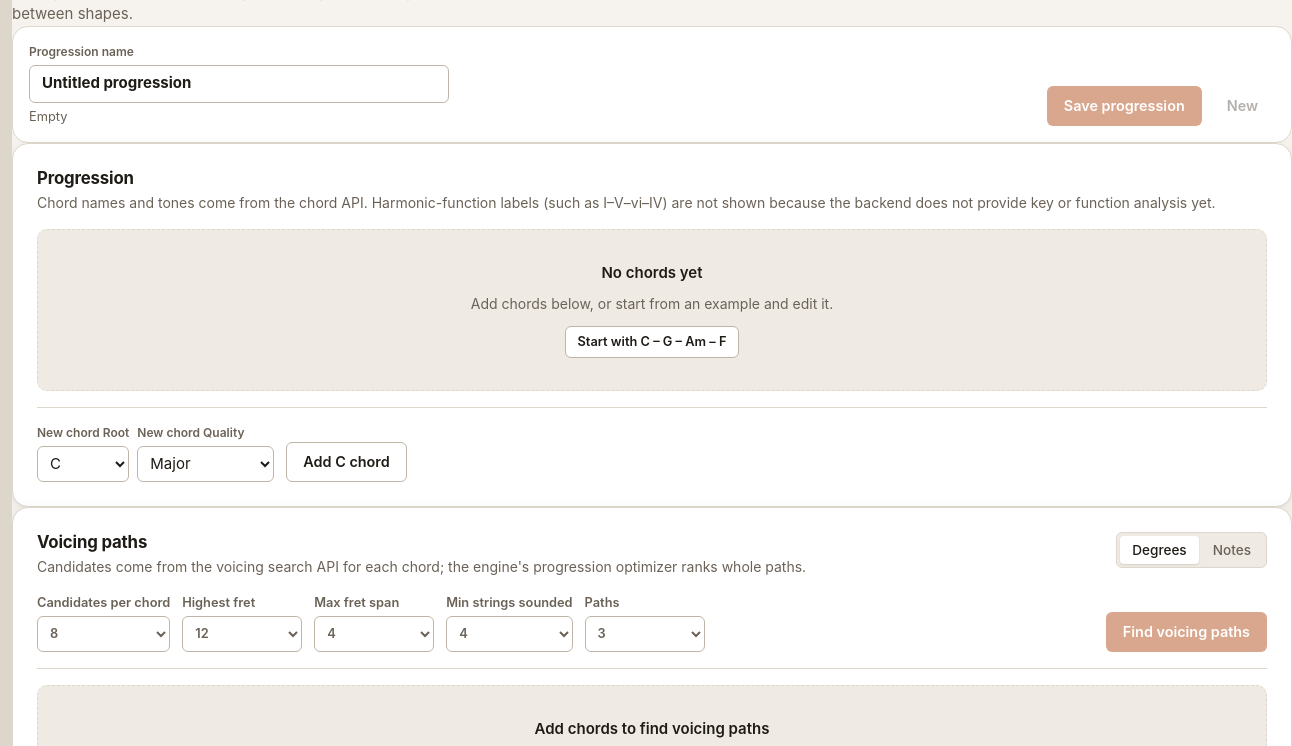
Test: ProgressionBuilder › reports service failures with a retry
Click the button "Start with C – G – Am – F". click: click(652, 342)
box: [564,326,739,358]
(page scrolled)
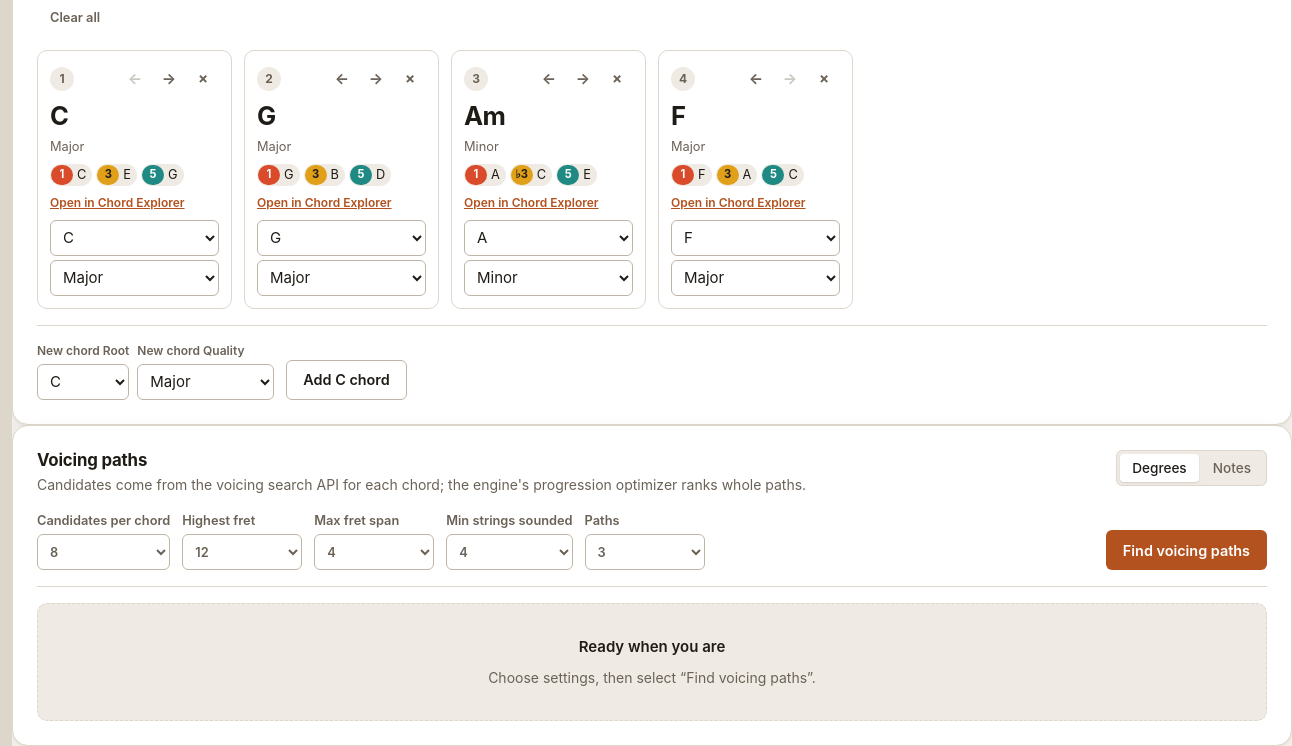
Click the button "Find voicing paths". click: click(1186, 550)
box: [1106,530,1267,570]
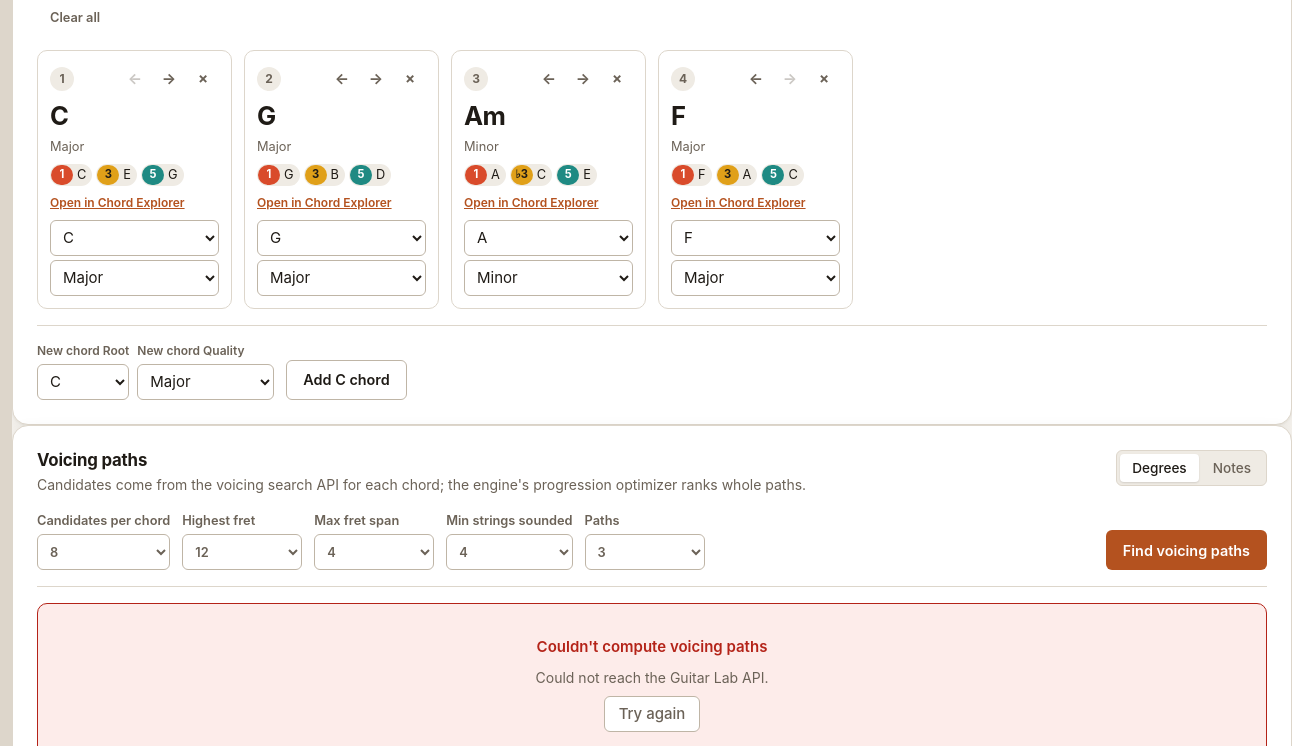
Check: the message shows "Could not reach the Guitar Lab API.", box [536,669,768,686]
Click the button "Try again". click: click(652, 714)
box: [604,696,700,732]
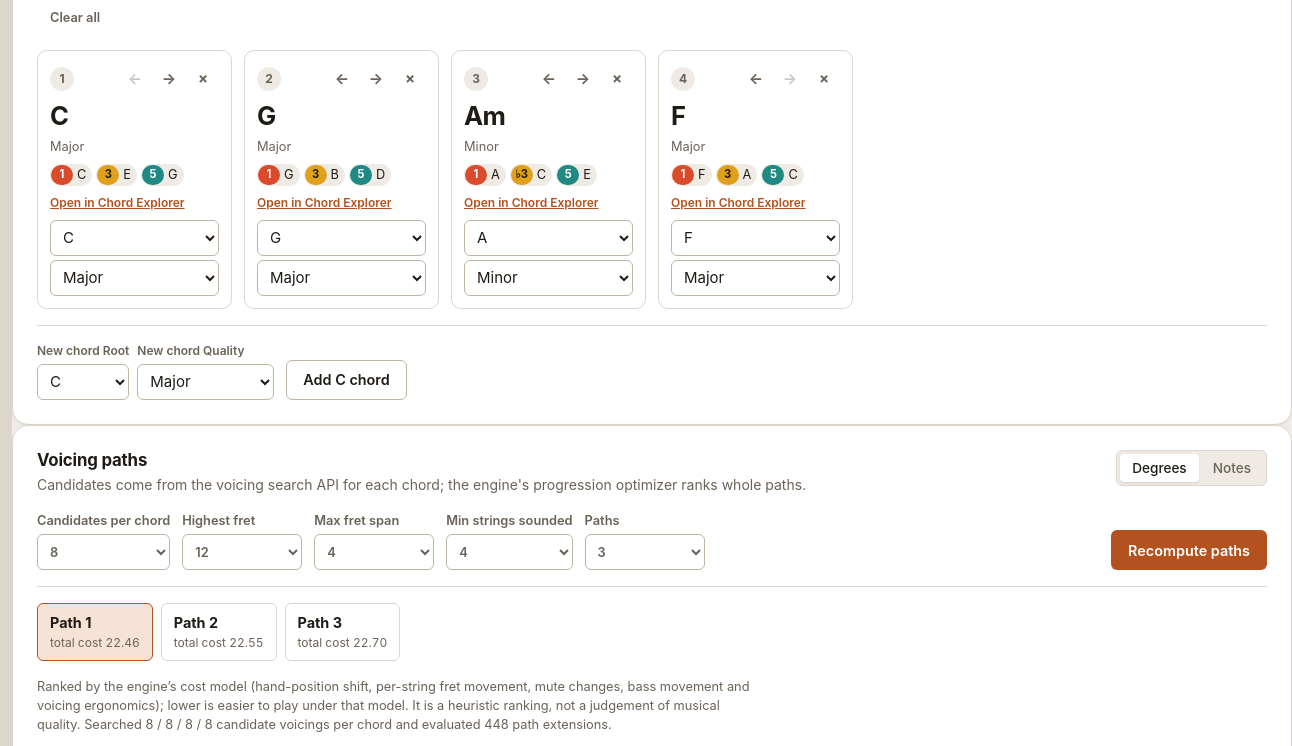
Check: the number of tabs is 3, box [37,603,153,661]; [161,603,277,661]; [284,603,400,661]
